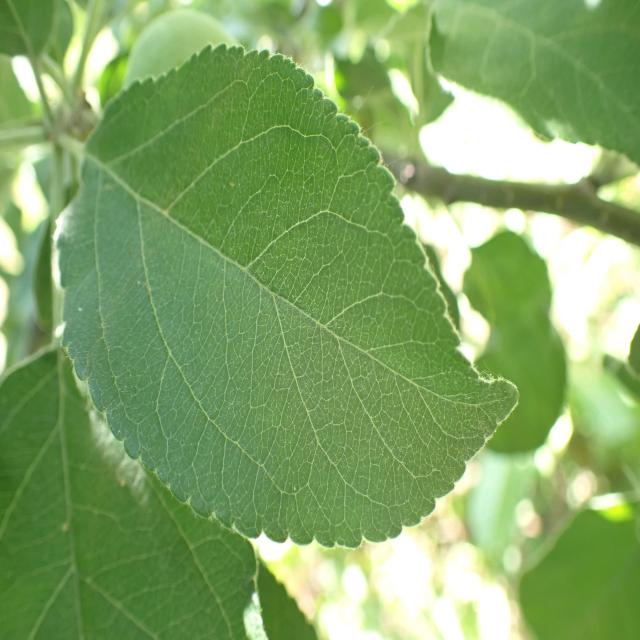healthy: (52, 43, 520, 551), (0, 344, 267, 640), (424, 0, 640, 167)
